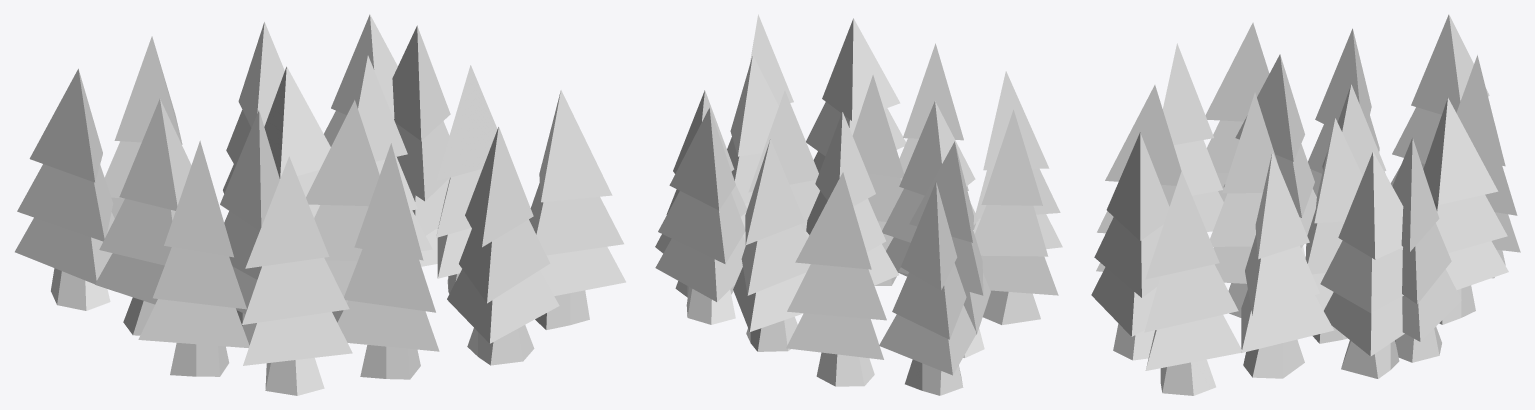
Rendered from Forest 1.fbx.
3 renders of one model, left to right at view 1: azimuth 30°, elevation 25°; view 2: azimuth 150°, elevation 25°; view 3: azimuth 270°, elevation 25°, orthographic. The views are drawn at different scales.
Parts seen in each view (by area): view 1: Cone.002; view 2: Cone.002; view 3: Cone.002.
Part boxes in pixels (bbox=[...]): Cone.002: bbox=[15, 14, 625, 395]; Cone.002: bbox=[655, 14, 1062, 395]; Cone.002: bbox=[1091, 14, 1520, 395].
Bounding box in the file's own units: 2220 × 1138 × 2049.
